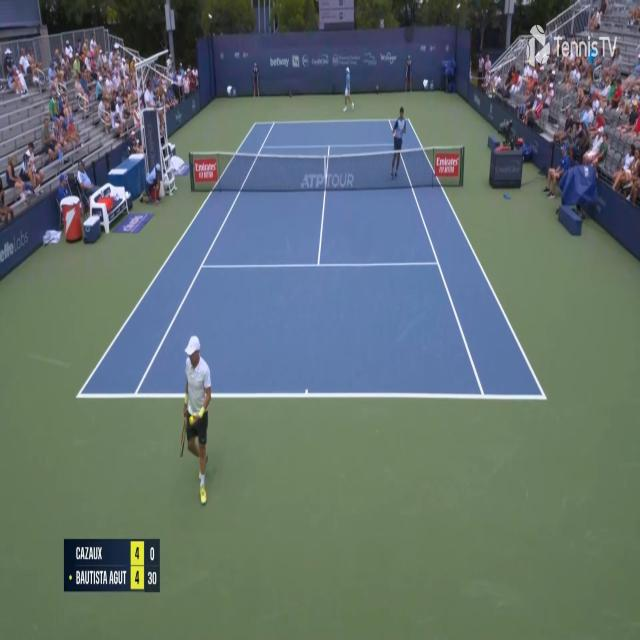tennis-player: (179, 334, 214, 507), (342, 64, 355, 112)
